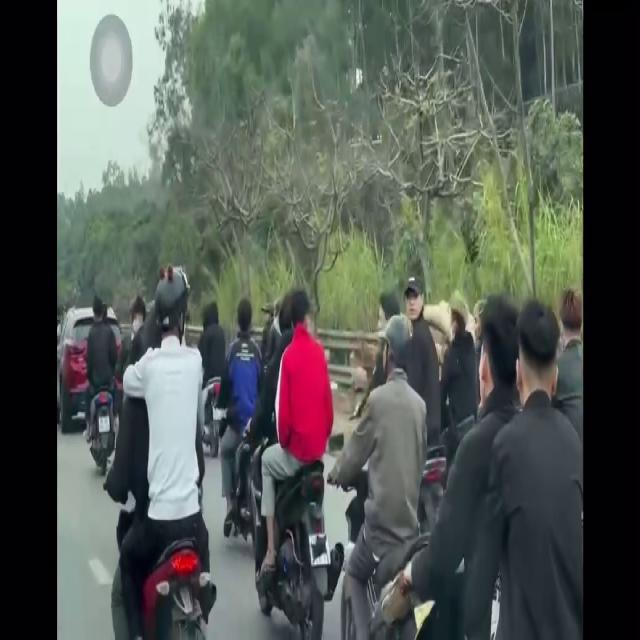helmet: (153, 263, 192, 371)
